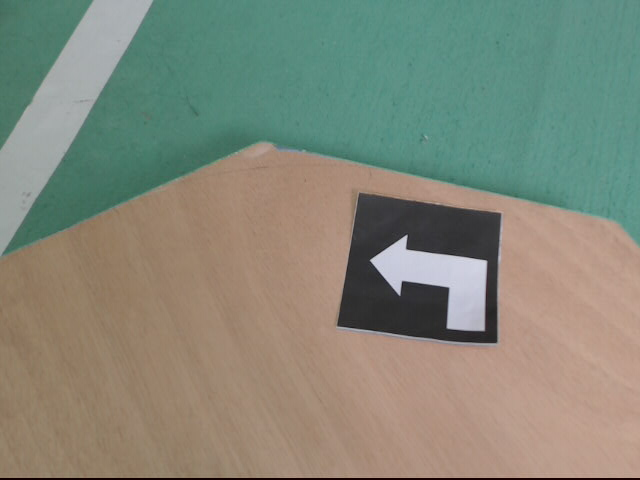left: (335, 193, 502, 345)
